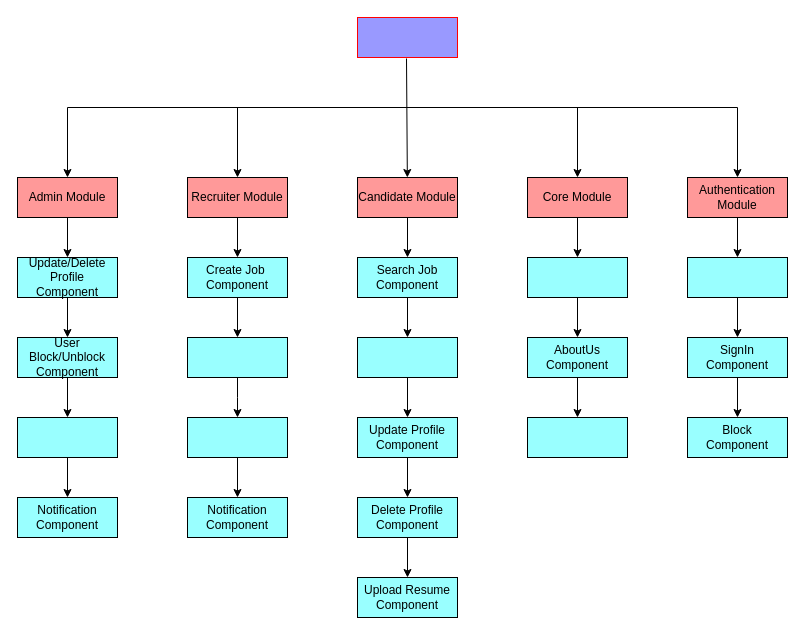
Some shapes in this 805 by 635 pixel diagram are drawn without their labels. Each missing label, with the centre of its shape:
Apply Job Component: [407,357]
Candidate Search Component: [237,437]
DashBoard Component: [67,437]
Home Component: [577,277]
Root Module: [407,37]
Routing Module: [577,437]
SignUp Component: [737,277]
Update Job Component: [237,357]
